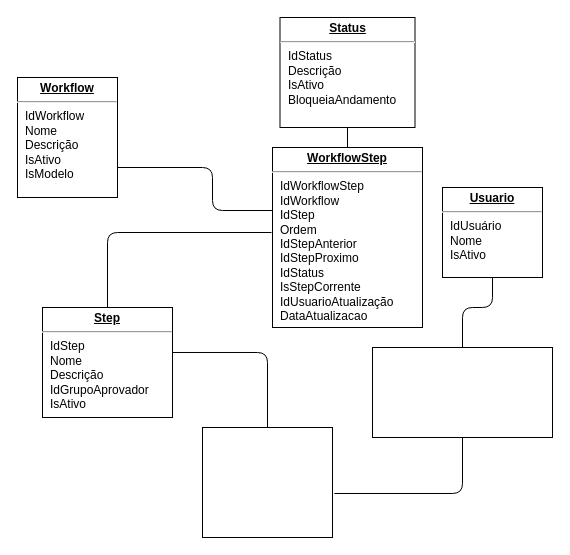
This 570x555 diagram has some shape labels left out. Here are the shapes that lost their labels. From the top down, the centre of each, then its label:
At point (462, 392): "GrupoAprovadorUsuario IdGrupoAprovadorUsuario IdGrupoAprovador IdUsuário".
At point (267, 482): "GrupoAprovador IdGrupoAprovador Nome Descrição IsAtivo".
